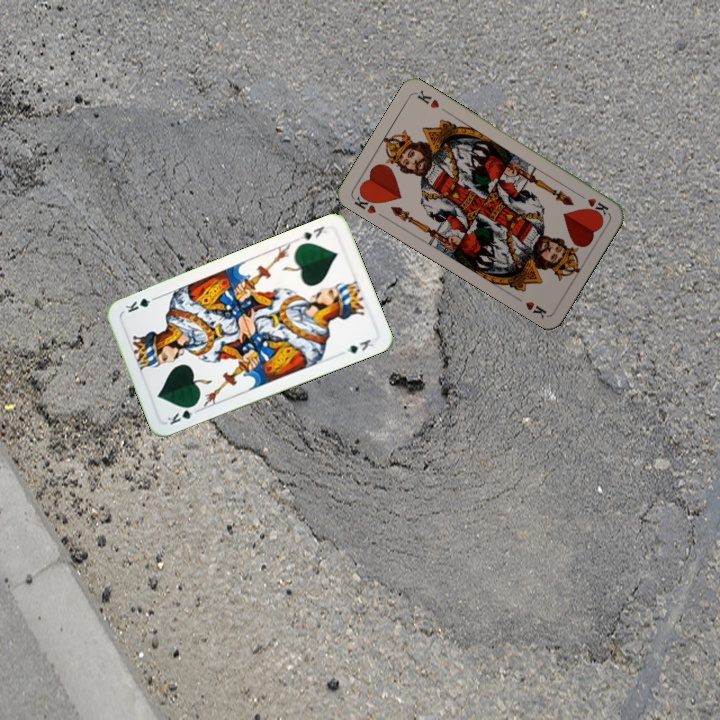GK: (163, 400, 202, 427), (293, 222, 329, 244)
HK: (574, 189, 611, 217), (350, 188, 380, 217)
